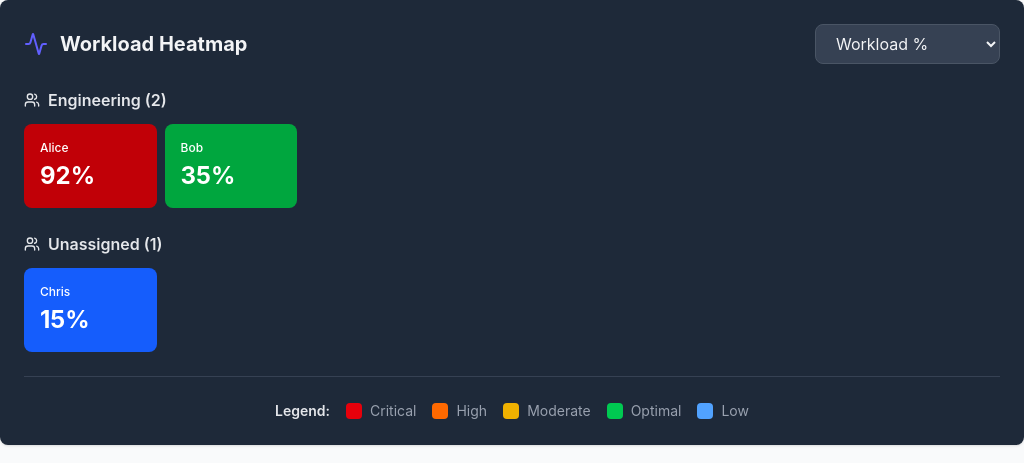
Scenario: WorkloadHeatmap dedicated › switches metric selector to active tasks
Select "Active Tasks" in the dropdown showing "Workload %": (908, 44) [815, 24, 1000, 64]
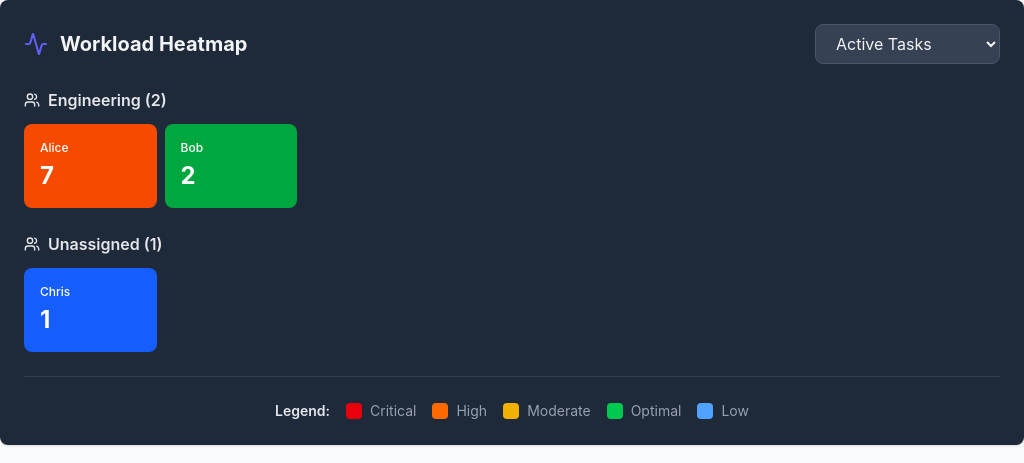
Now the text "7" is shown, box [40, 161, 54, 190]
